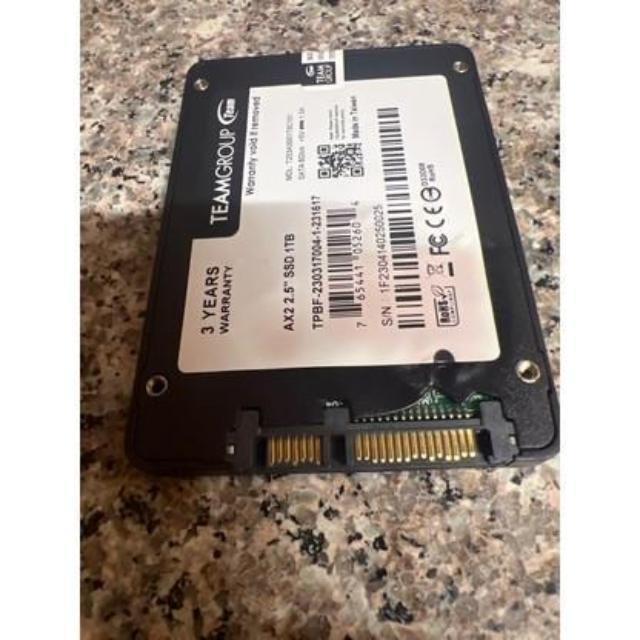DISK: (129, 36, 562, 487)
